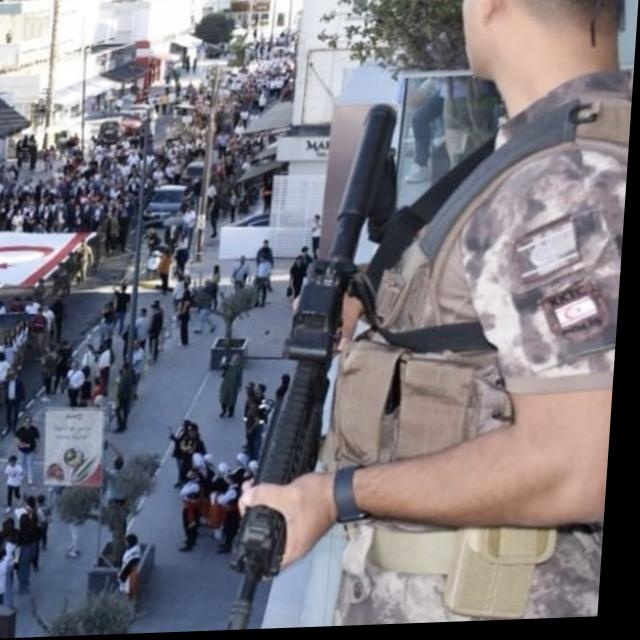poh_personel: (240, 0, 640, 632)
